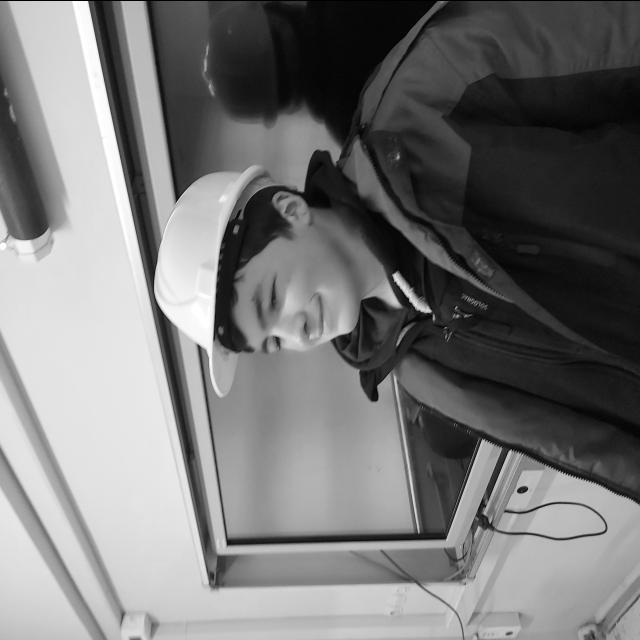safety_helmet: (156, 163, 273, 398)
